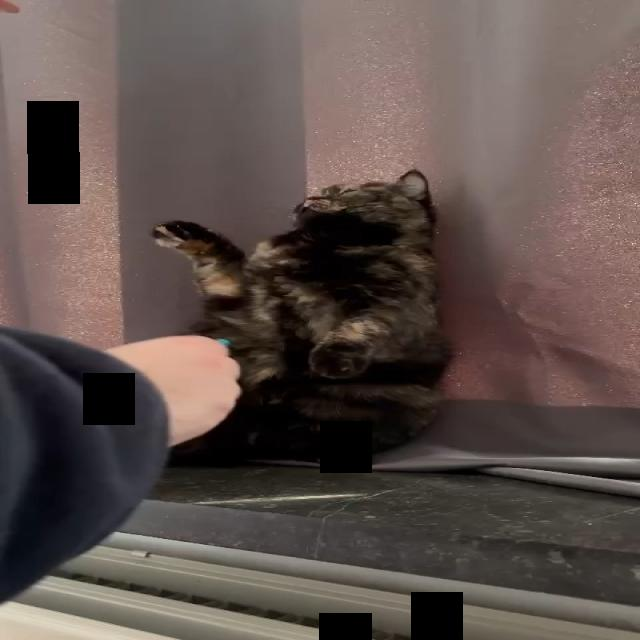authorized: (150, 167, 453, 468)
